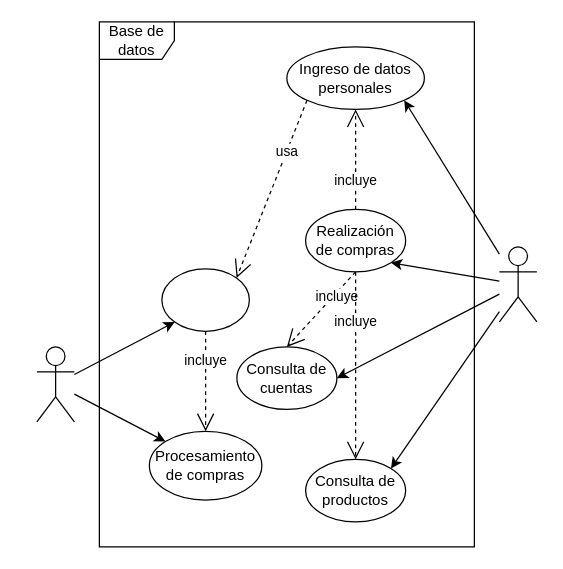
The diagram is 563 pixels wide and 569 high, and some of its shapes have lost their labels. The centre of each missing label's shape, as x and y in pixels:
Cliente: [517,284]
Empleado: [55,384]
Gestión de clientes: [205,299]
